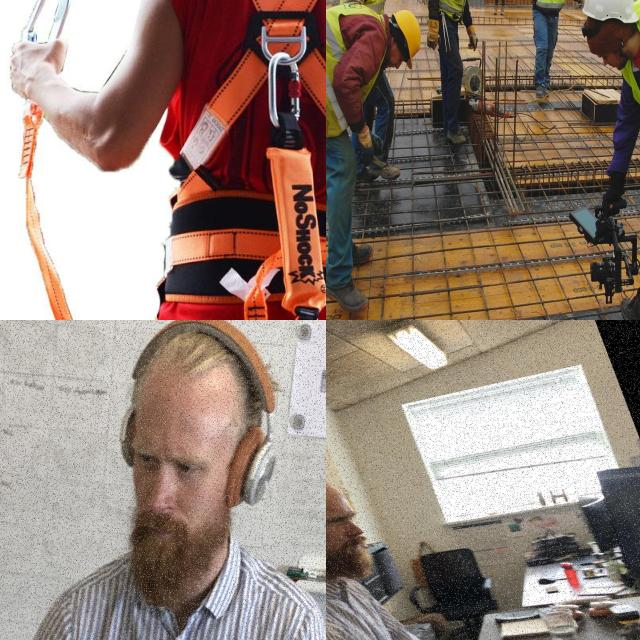Ear-protection: (95, 320, 308, 610), (326, 457, 377, 593)
Harness: (165, 0, 326, 289)
face_nomask: (600, 29, 626, 82), (390, 24, 408, 76)
hand_glove: (599, 169, 635, 219), (359, 118, 382, 169), (421, 11, 445, 55), (466, 24, 484, 54)
head_helmet: (396, 11, 422, 69), (583, 0, 635, 25)
person: (326, 1, 412, 299), (582, 0, 640, 320), (438, 0, 475, 139), (529, 0, 574, 98)
shoes: (326, 270, 372, 320), (362, 147, 404, 187), (444, 113, 467, 154), (619, 286, 640, 320), (532, 76, 546, 102)
vest: (326, 6, 382, 120), (468, 16, 506, 76), (441, 0, 465, 15)
